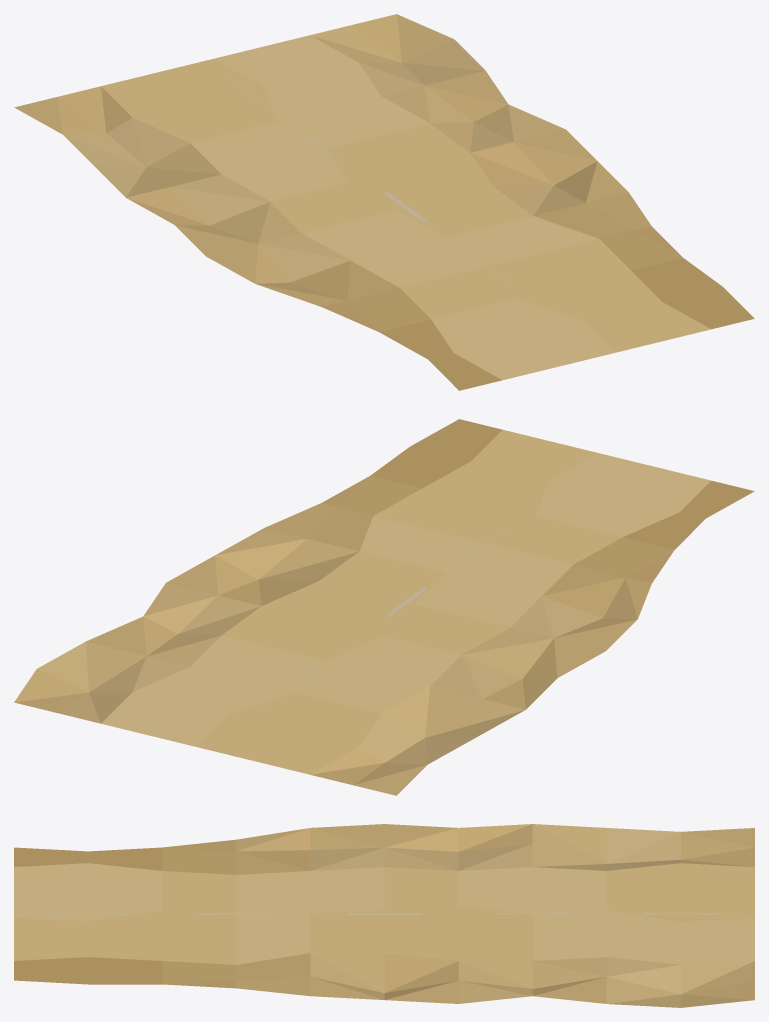
File: drodbb.obj
3 views of the same model, one above another, from view 1: azimuth 30°, elevation 25°; view 2: azimuth 150°, elevation 25°; view 3: azimuth 270°, elevation 25° (orthographic). The views are drawn at different scales.
Size of the model in its own units: 3290 by 105 by 5600.
